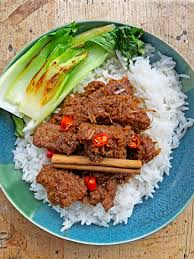rendang: (8, 28, 194, 238)
